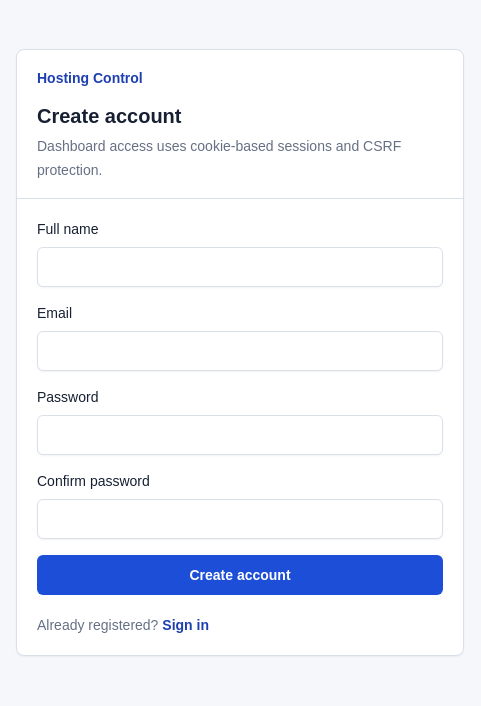
Test: RegisterPage › submits valid registration data
In the field labelled "Full name": x=240, y=266 [37,246,443,286], type "Ada Admin"
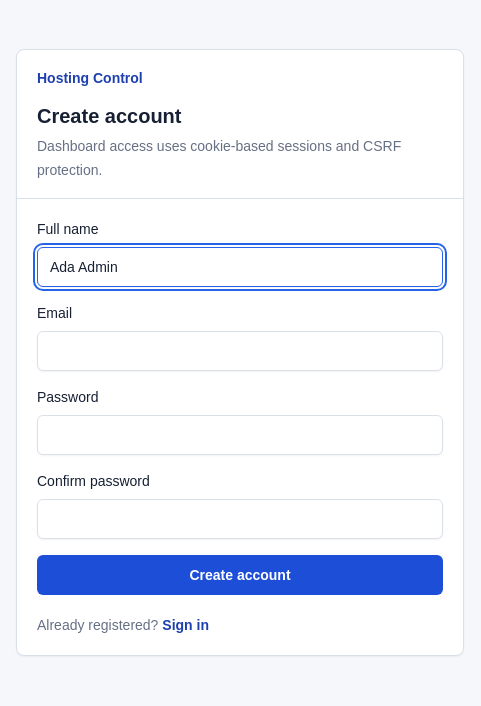
In the field labelled "Email": x=240, y=350 [37,330,443,370], type "ada@example.com"
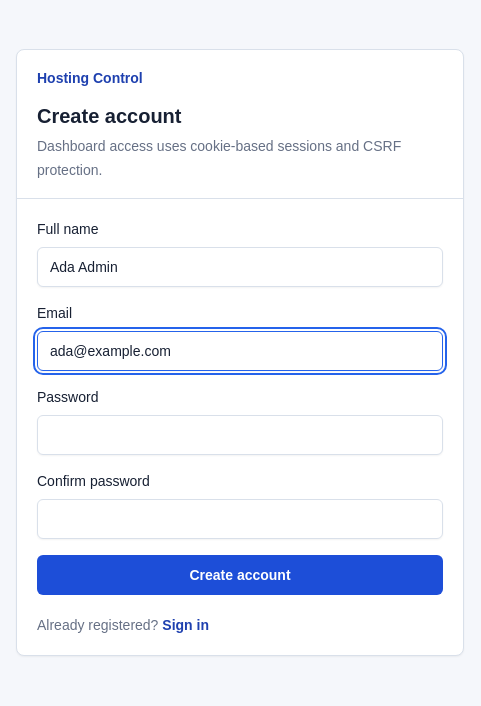
In the password field labelled "Password": x=240, y=434 [37,414,443,454], type "correct-horse-battery"
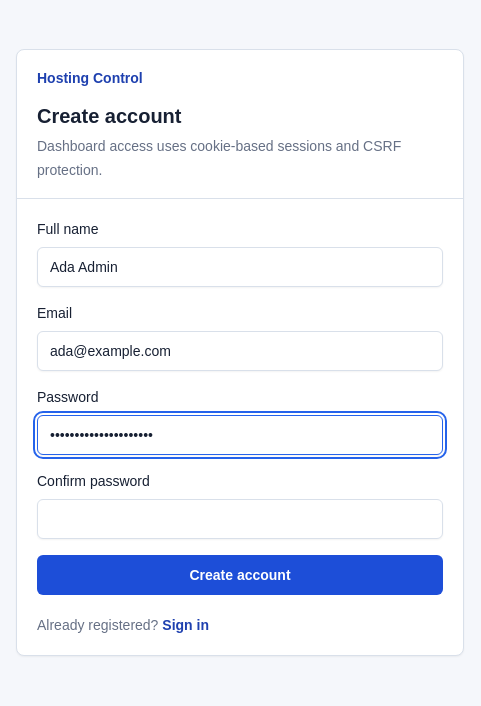
In the password field labelled "Confirm password": x=240, y=518 [37,498,443,538], type "correct-horse-battery"
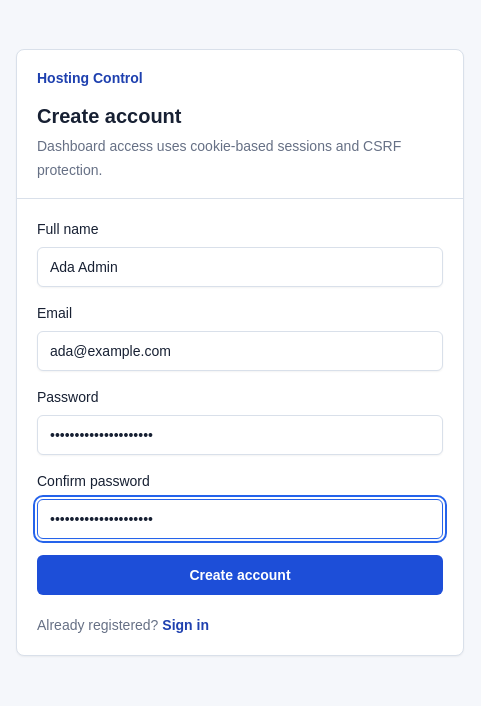
Click the button "Create account": x=240, y=574 [37,554,443,594]
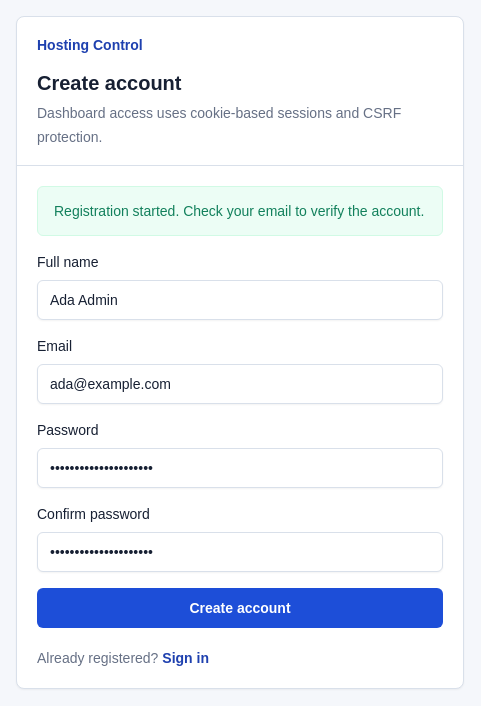
Now the text "Registration started. Check your email to verify the account." is shown, box [37,186,443,236]
